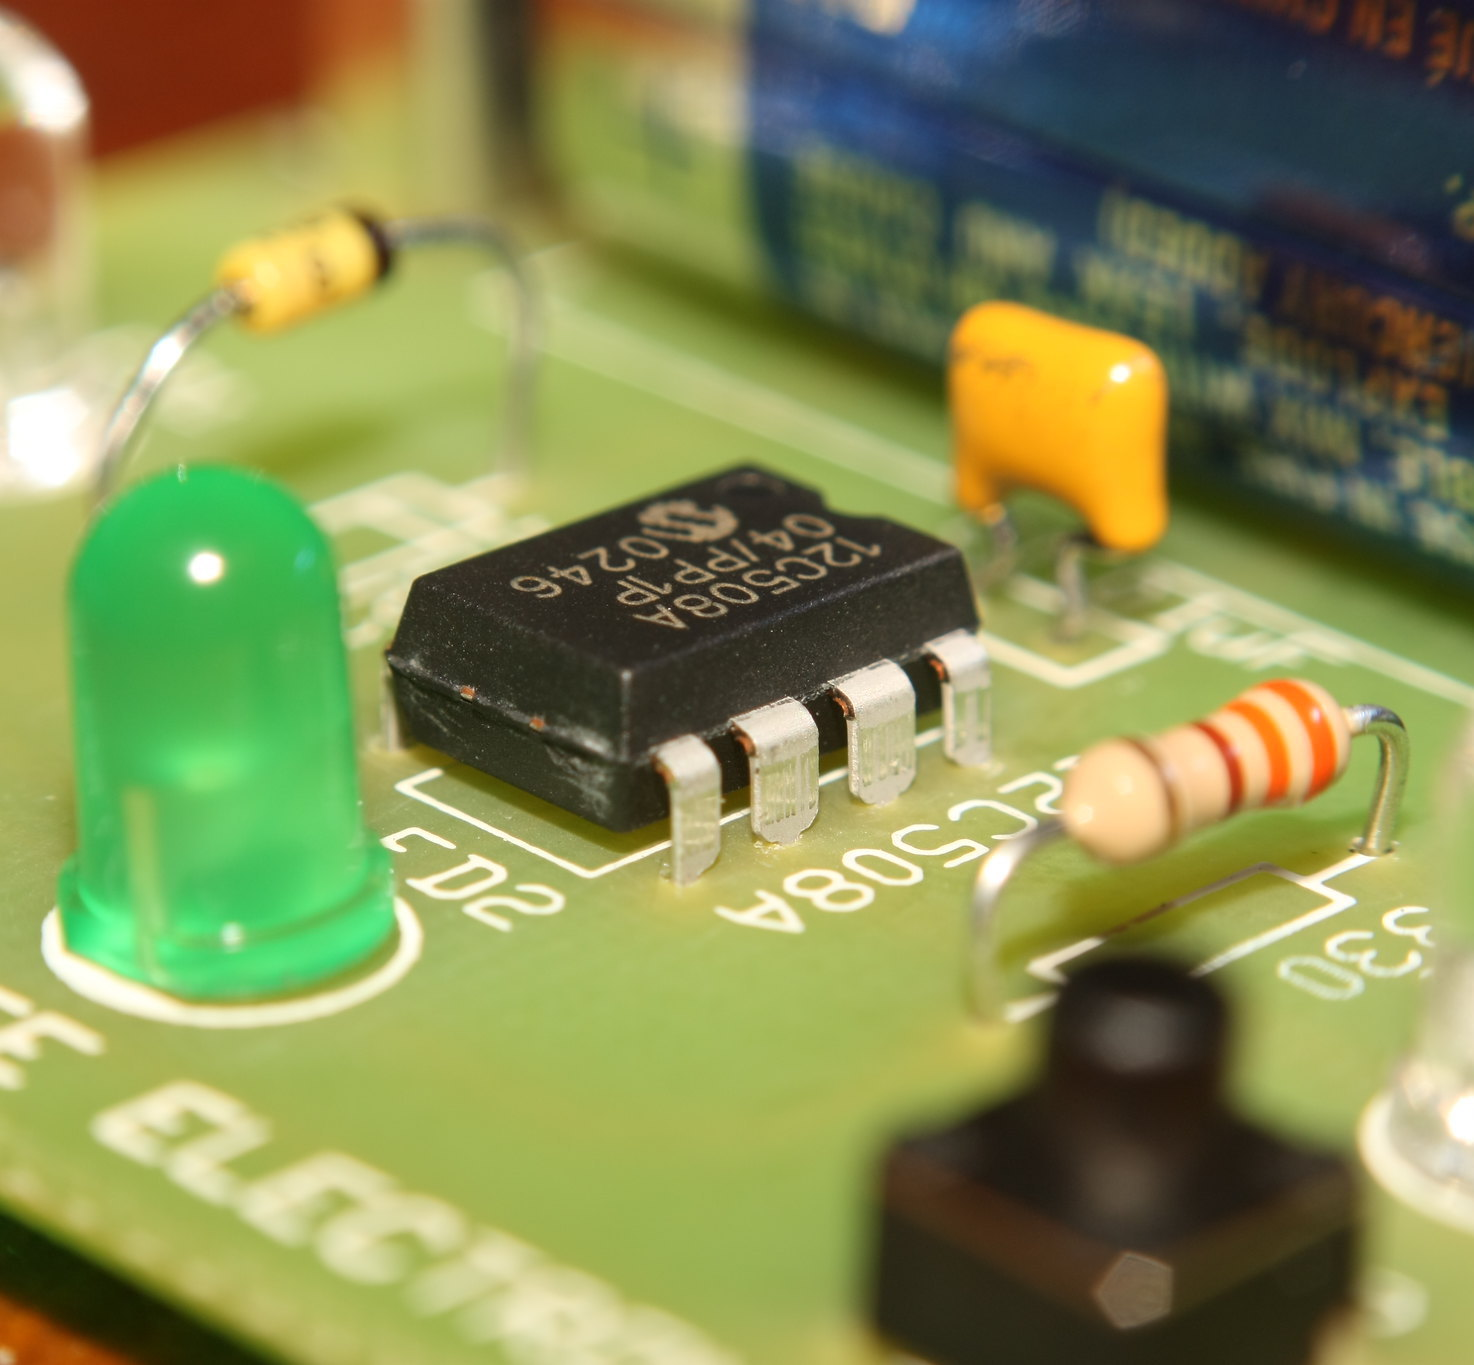Diode: (212, 196, 404, 335)
LED: (56, 449, 402, 1005)
Resistor: (1034, 672, 1367, 871)
